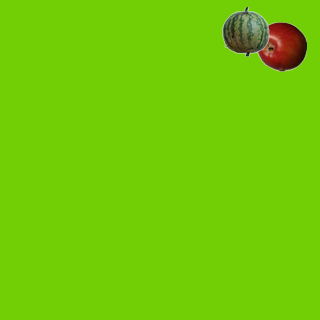Apple Braeburn: (256, 21, 306, 71)
Watermelon: (220, 6, 270, 56)
